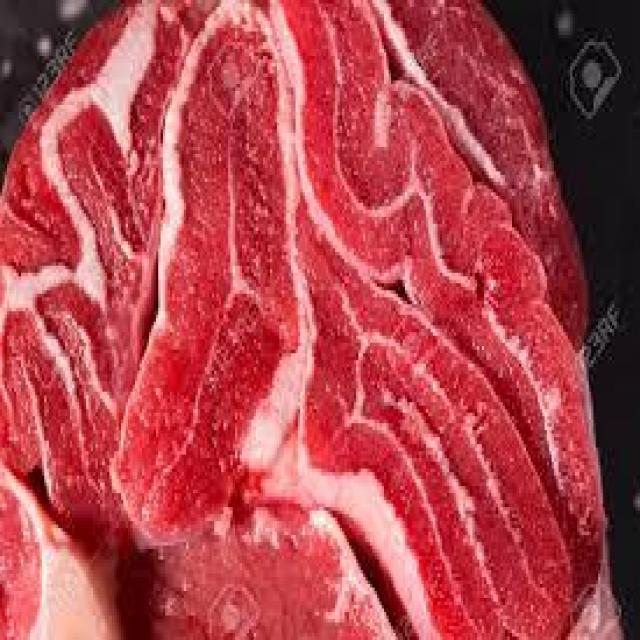beef: (82, 31, 552, 640)
